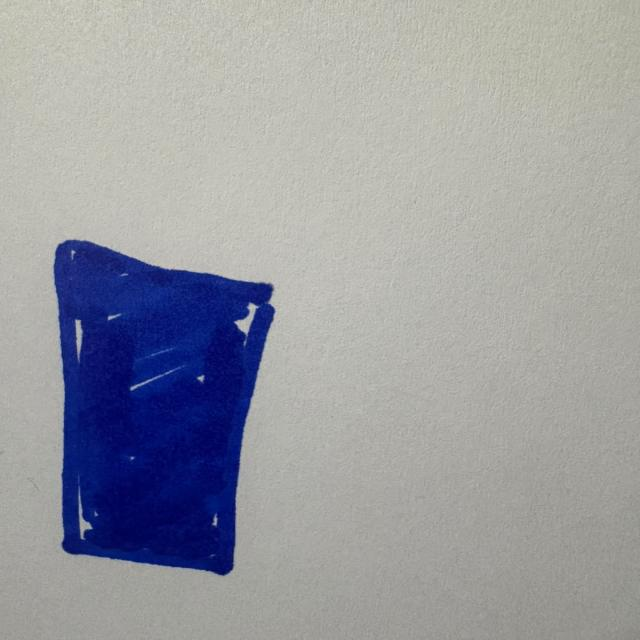Rectangle: (52, 239, 276, 576)
